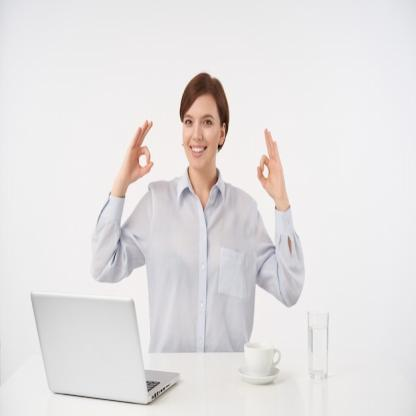ok: (116, 117, 157, 183)
